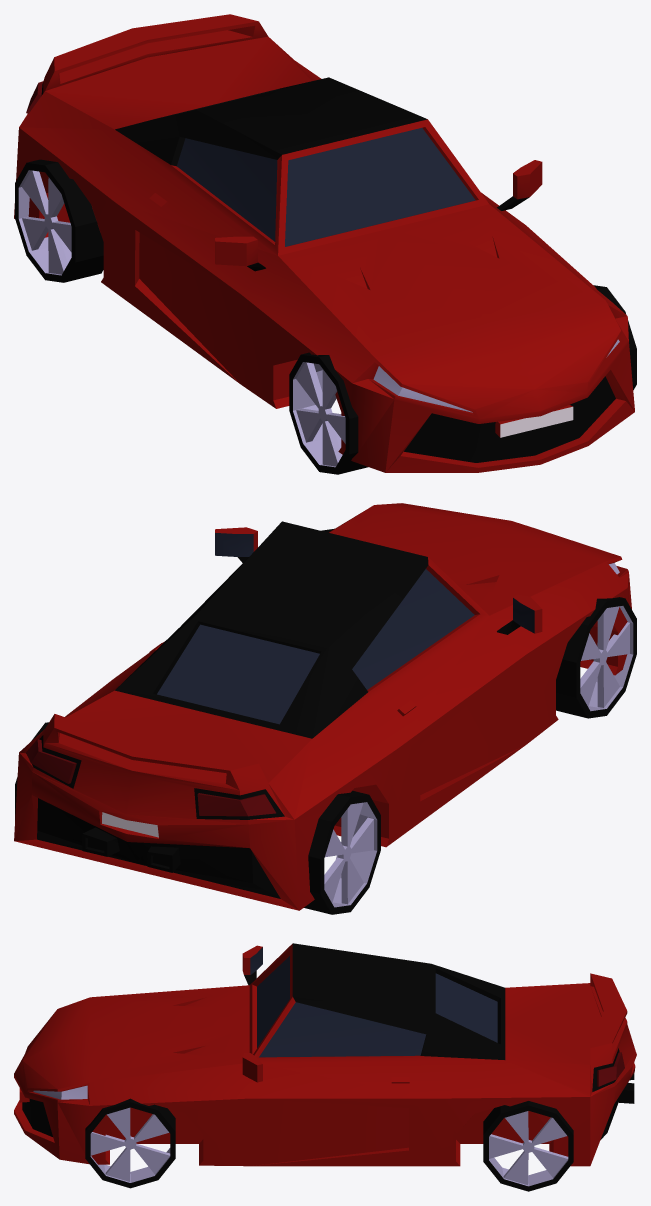
Rendered from haymaker.glb.
3 views of the same model, one above another, from view 1: azimuth 30°, elevation 25°; view 2: azimuth 150°, elevation 25°; view 3: azimuth 270°, elevation 25° (orthographic). The views are drawn at different scales.
Visible parts, largest first — view 1: paint, trim, glass, palette, rim, chrome, headlight, tyre; view 2: paint, trim, glass, palette, taillight, rim, chrome; view 3: paint, trim, glass, palette, rim, taillight, headlight, tyre.
Part boxes in pixels (<box>): paint: <box>14,14,634,472</box>; trim: <box>41,77,615,462</box>; glass: <box>177,128,475,246</box>; palette: <box>15,159,636,474</box>; rim: <box>18,170,71,274</box>; chrome: <box>500,406,573,437</box>; headlight: <box>373,339,619,412</box>; tyre: <box>15,160,103,281</box>; paint: <box>14,503,631,910</box>; trim: <box>26,521,520,898</box>; glass: <box>157,533,534,724</box>; palette: <box>15,528,636,914</box>; taillight: <box>26,739,275,816</box>; rim: <box>581,606,633,710</box>; chrome: <box>102,812,158,837</box>; paint: <box>14,944,636,1166</box>; trim: <box>22,943,634,1139</box>; glass: <box>250,947,497,1057</box>; palette: <box>85,1098,573,1191</box>; rim: <box>91,1133,169,1180</box>; taillight: <box>597,1052,624,1086</box>; headlight: <box>33,1085,87,1099</box>; tyre: <box>486,1110,573,1184</box>.
Size of what is drawn, in the model's own units: 2.17 by 1.4 by 4.77.
Materials: 12 (3 with a texture image).
